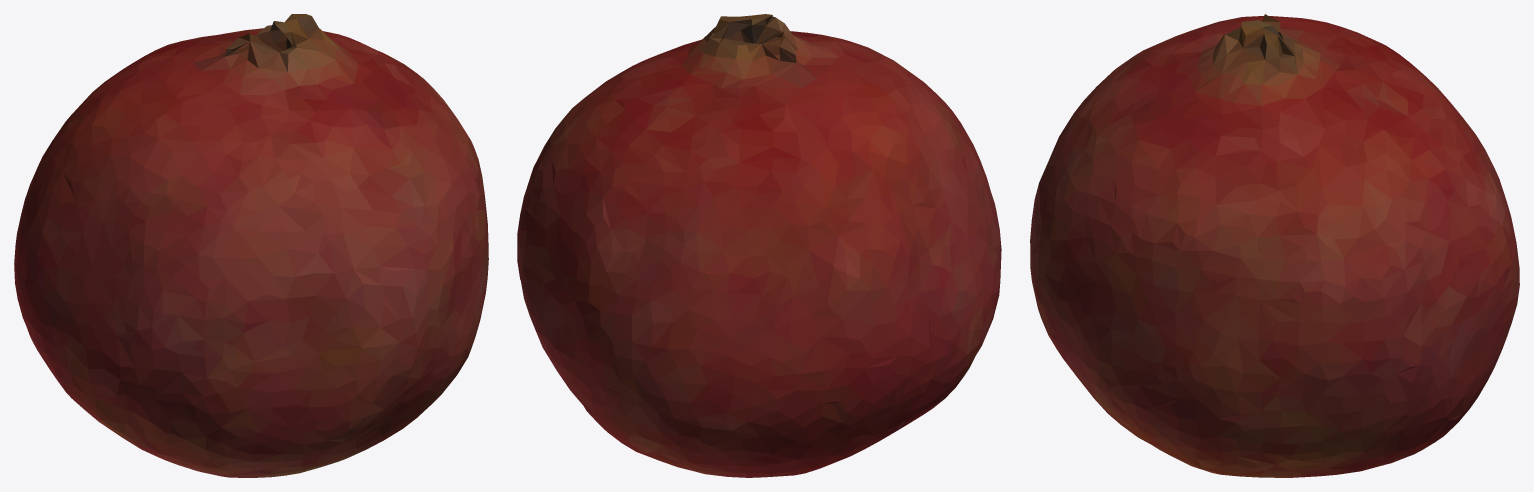
3 views of the same model, side by side, from view 1: azimuth 30°, elevation 25°; view 2: azimuth 150°, elevation 25°; view 3: azimuth 270°, elevation 25° (orthographic). The views are drawn at different scales.
Bounding box in the file's own units: 1.15 × 1.15 × 1.16.
